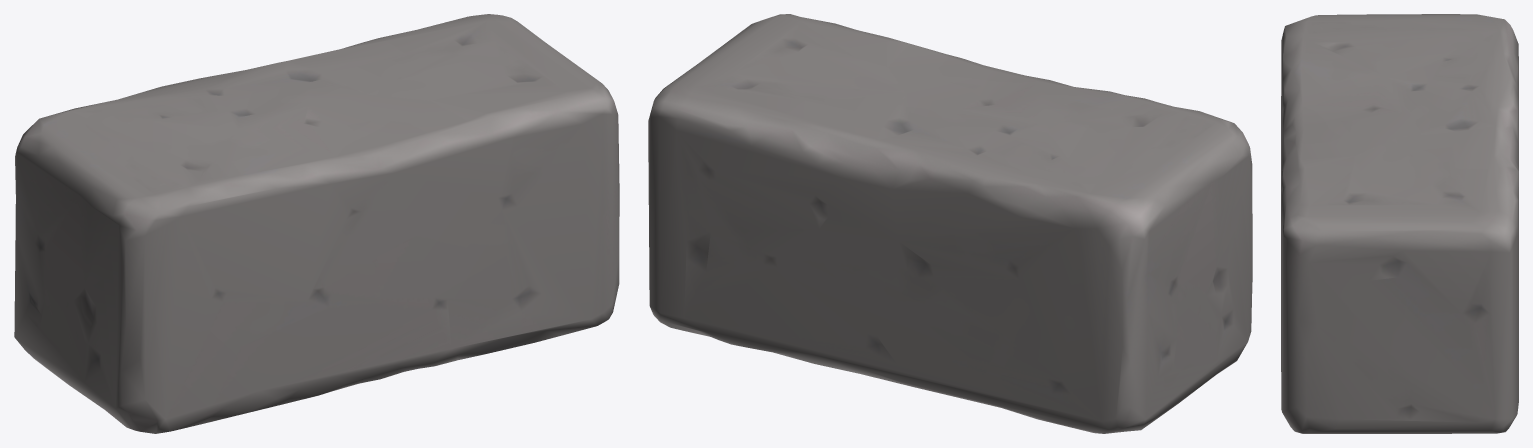
File: stone.fbx
The picture shows the model from 3 angles, left to right: view 1: azimuth 30°, elevation 25°; view 2: azimuth 150°, elevation 25°; view 3: azimuth 270°, elevation 25°; orthographic projection. The views are drawn at different scales.
Visible parts, largest first — view 1: stone2; view 2: stone2; view 3: stone2.
Part boxes in pixels (left/top/right/bottom): stone2: left=14, top=14, right=619, bottom=433; stone2: left=648, top=14, right=1252, bottom=433; stone2: left=1281, top=14, right=1518, bottom=433.
Size of the model in its own units: 0.4985 by 0.2252 by 0.2252.
1 material, 1 textured.
